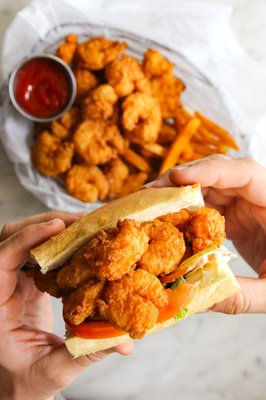sushi: (1, 10, 257, 213), (8, 54, 78, 124)
